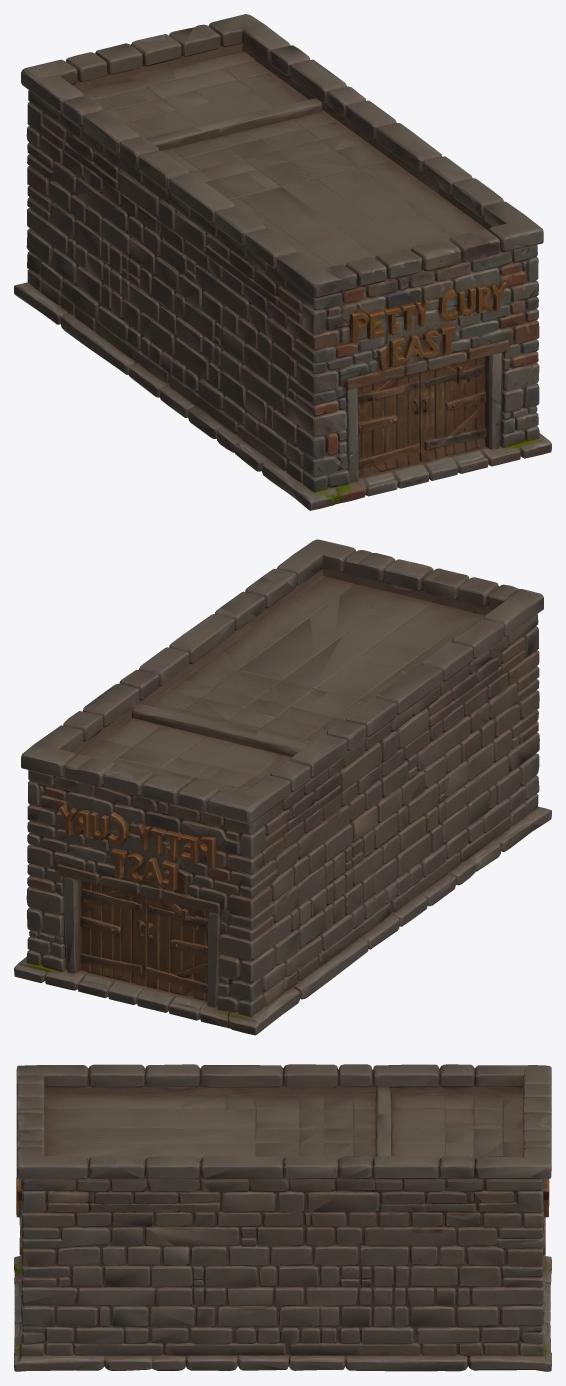
3 views of the same model, one above another, from view 1: azimuth 30°, elevation 25°; view 2: azimuth 150°, elevation 25°; view 3: azimuth 270°, elevation 25° (orthographic). The views are drawn at different scales.
Parts seen in each view (by area): view 1: model; view 2: model; view 3: model.
Part boxes in pixels (<box>): model: <box>14,14,551,510</box>; model: <box>14,539,551,1035</box>; model: <box>14,1064,551,1371</box>.
Size of the model in its own units: 0.8911 by 0.7882 by 1.89.
1 material, 1 textured.
